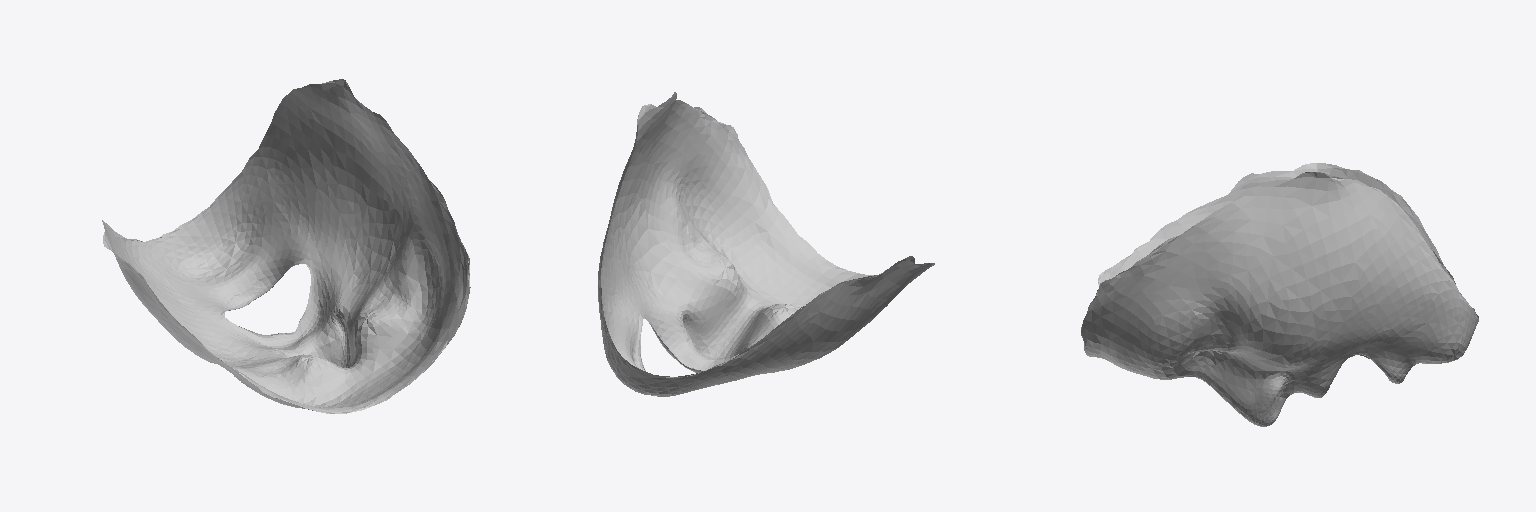
The model's file is face_gab_sfm68.obj.
3 renders of one model, left to right at view 1: azimuth 30°, elevation 25°; view 2: azimuth 150°, elevation 25°; view 3: azimuth 270°, elevation 25°, orthographic.
Bounding box in the file's own units: 167 × 164 × 217.